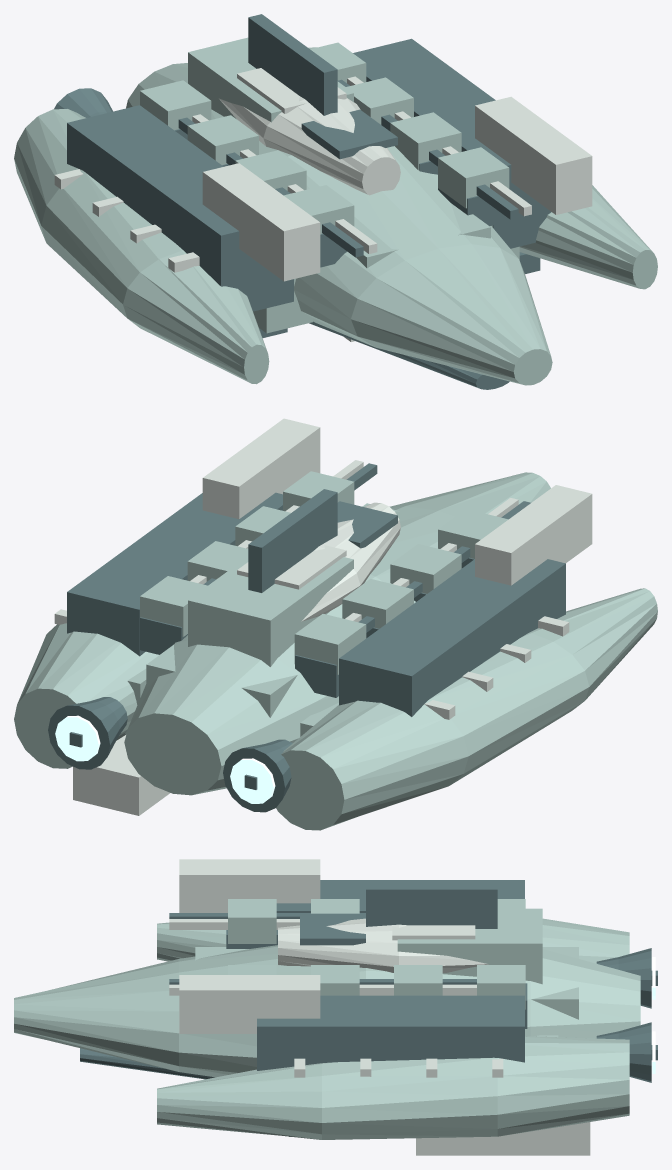
3 views of the same model, one above another, from view 1: azimuth 30°, elevation 25°; view 2: azimuth 150°, elevation 25°; view 3: azimuth 270°, elevation 25° (orthographic). The views are drawn at different scales.
Size of the model in its own units: 18.07 by 9.12 by 24.84.
